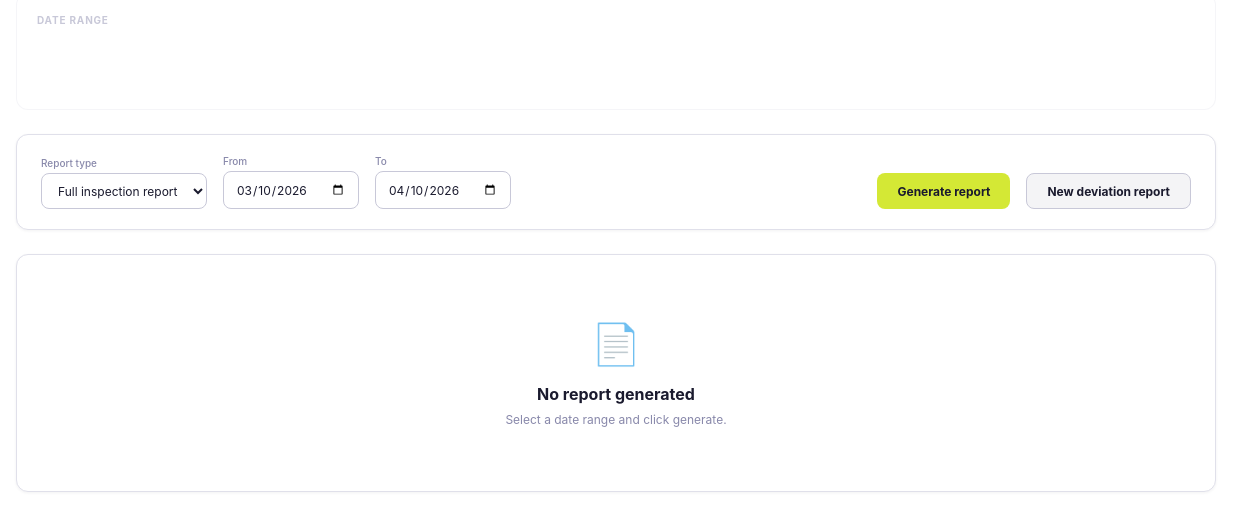
ReportsView › loadReport — UI states › shows InspectionReport (and not SummaryReport) after a successful inspection load
The image size is (1233, 509).
Click the button with class "btn-generate" at (944, 191), box [878,173,1010,209]
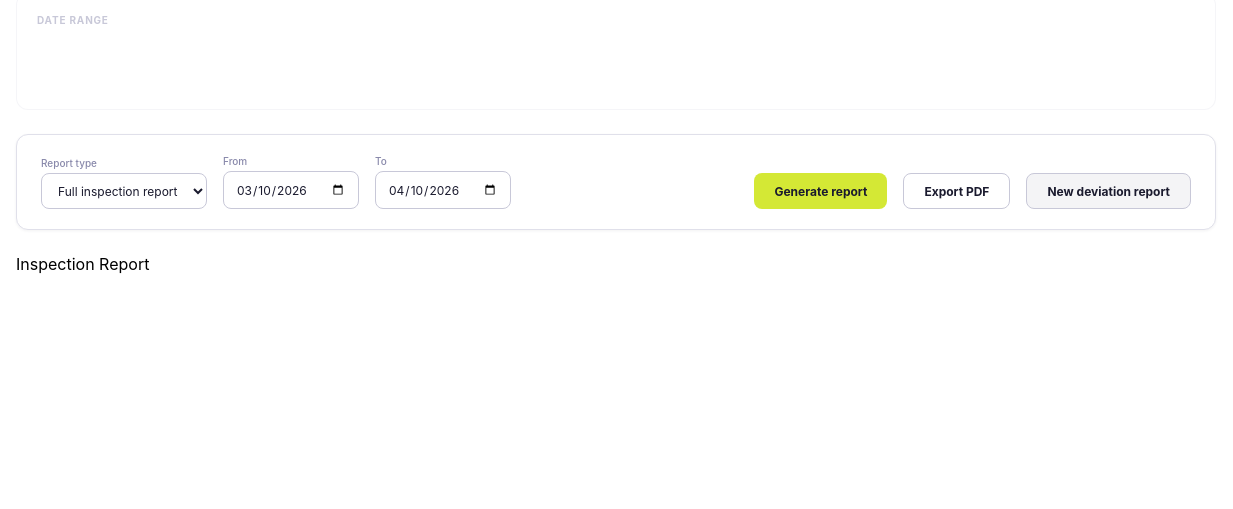
Check: the text "Inspection Report" is shown, box [16,254,149,274]
